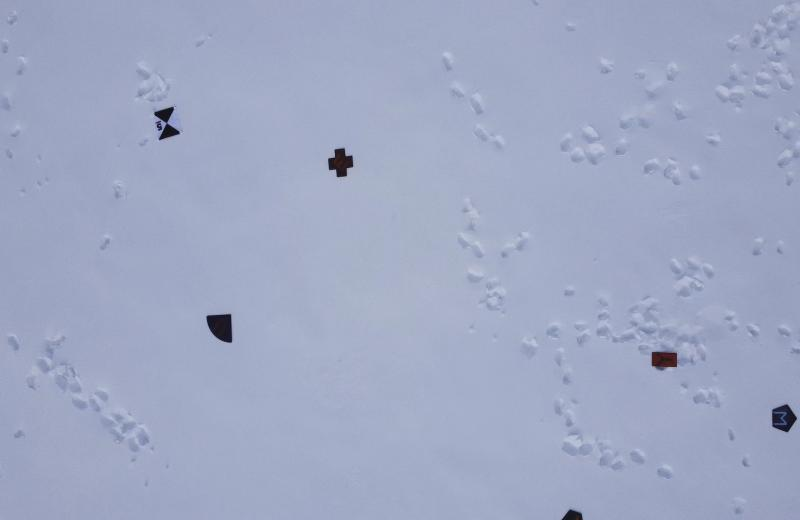Cross: (324, 146, 352, 182)
Hexagon: (560, 500, 587, 520)
Pentagon: (769, 400, 798, 438)
Quarter Circle: (205, 308, 237, 345)
Rectangle: (1, 1, 800, 520), (650, 342, 680, 376)
